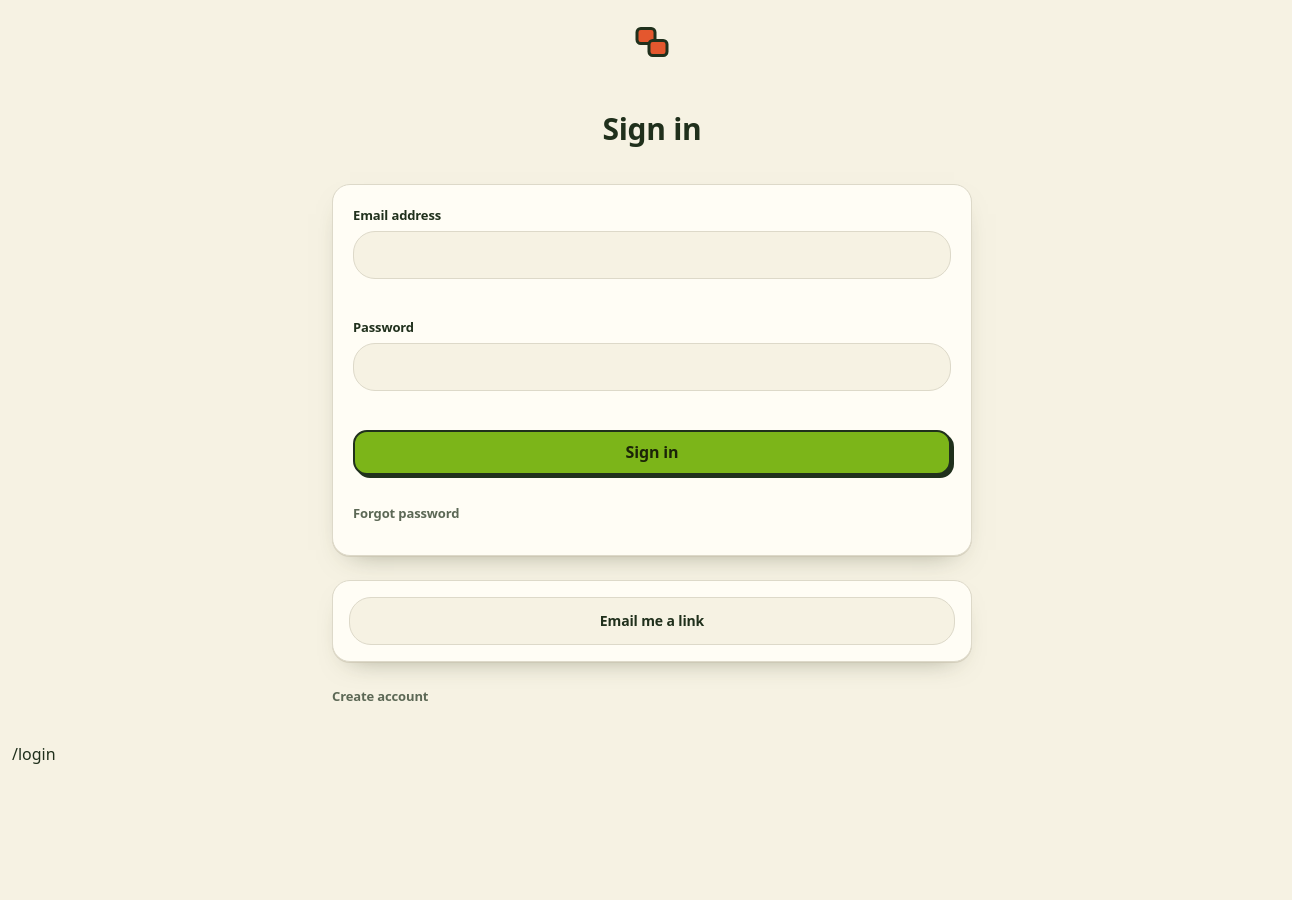
Test: authentication email links › renders neutral copy for a magic-link validation rejection, not the password message
Type "user@example.test" into the field labelled "Email address".
click(652, 255); type("user@example.test")  # box x1=353 y1=231 x2=951 y2=279
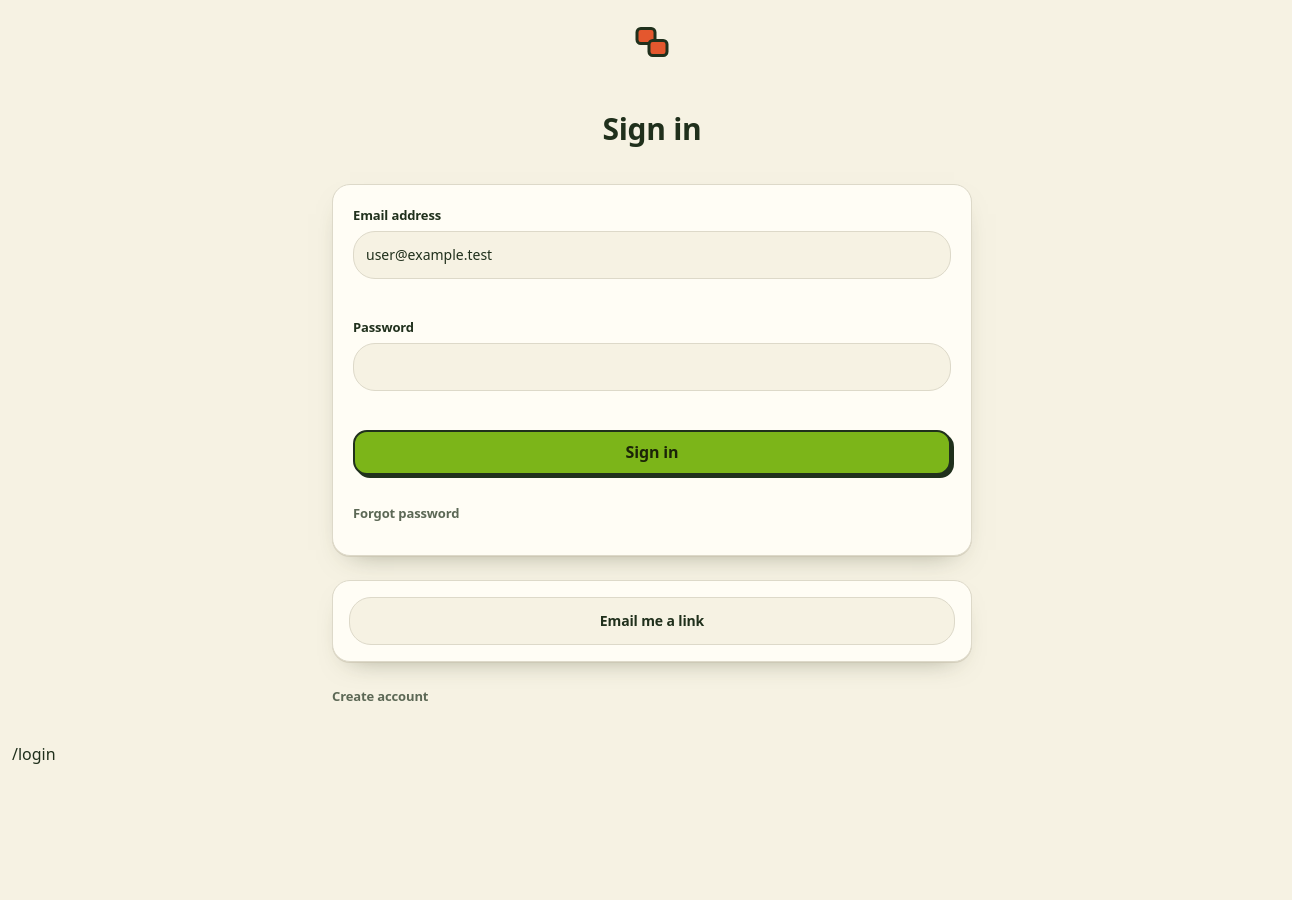
Click the button "Email me a link".
click(652, 621)  # box x1=349 y1=597 x2=955 y2=645
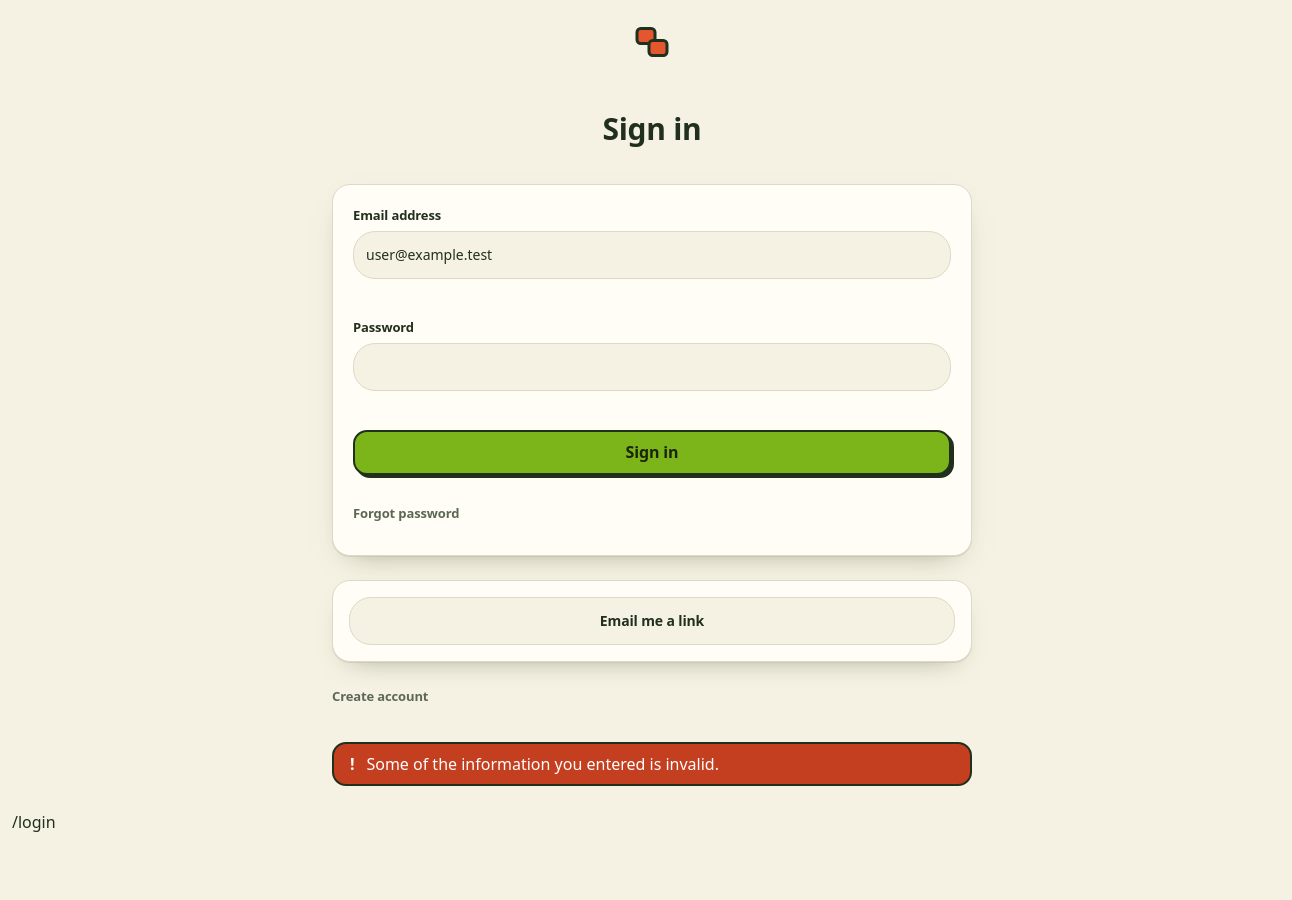
Check: the text "Some of the information you entered is invalid." is shown, box x1=366 y1=753 x2=719 y2=775
